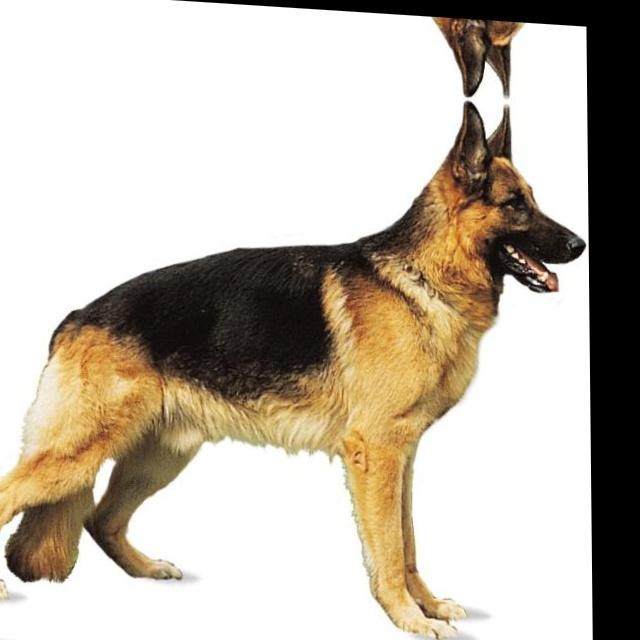dog: (0, 66, 592, 640), (0, 0, 586, 105)
